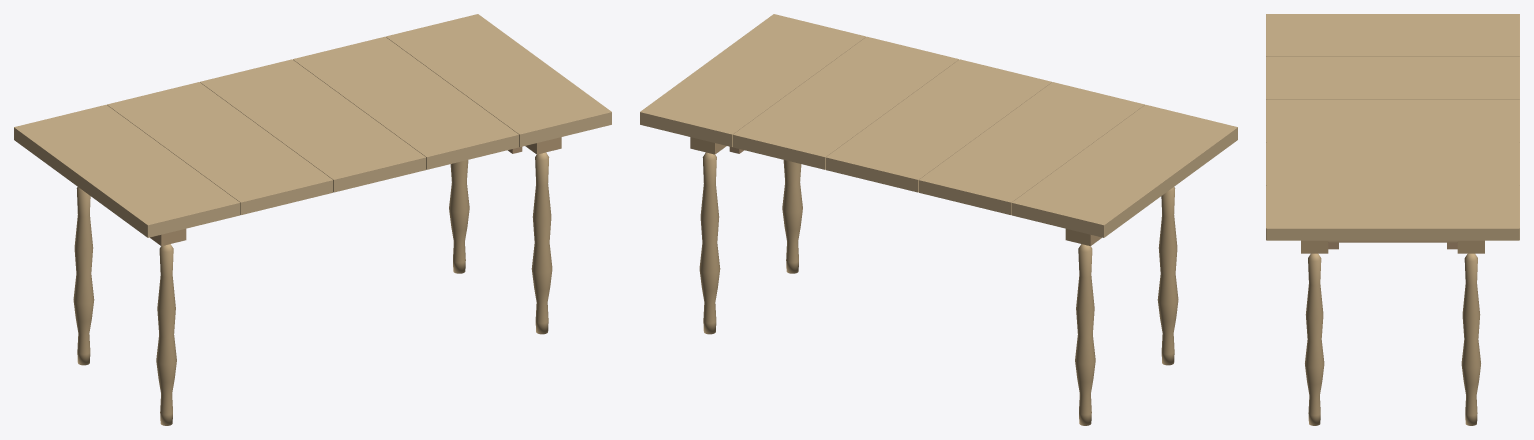
The model's file is turned_leg_apron_table_v1.glb.
3 renders of one model, left to right at view 1: azimuth 30°, elevation 25°; view 2: azimuth 150°, elevation 25°; view 3: azimuth 270°, elevation 25°, orthographic. The views are drawn at different scales.
Parts seen in each view (by area): view 1: tabletop_board_1, tabletop_board_3, tabletop_board_2, tabletop_board_4, tabletop_board_5, turned_leg_3, turned_leg_1, turned_leg_2, turned_leg_4; view 2: tabletop_board_1, tabletop_board_3, tabletop_board_2, tabletop_board_4, tabletop_board_5, turned_leg_4, turned_leg_2, turned_leg_1, turned_leg_3; view 3: tabletop_board_5, tabletop_board_4, tabletop_board_1, tabletop_board_2, tabletop_board_3, turned_leg_3, turned_leg_4, leg_top_block_3, leg_top_block_4, apron_right.
Part boxes in pixels (box(x1,y1,x2,y2)): tabletop_board_1: box(14, 104, 240, 237); tabletop_board_3: box(200, 59, 425, 192); tabletop_board_2: box(107, 82, 332, 214); tabletop_board_4: box(293, 36, 518, 169); tabletop_board_5: box(386, 14, 611, 146); turned_leg_3: box(531, 152, 552, 334); turned_leg_1: box(156, 244, 176, 425); turned_leg_2: box(73, 187, 94, 365); turned_leg_4: box(449, 160, 469, 273); tabletop_board_1: box(1011, 104, 1237, 237); tabletop_board_3: box(826, 59, 1051, 192); tabletop_board_2: box(919, 82, 1144, 214); tabletop_board_4: box(733, 36, 958, 169); tabletop_board_5: box(640, 14, 865, 146); turned_leg_4: box(699, 152, 720, 334); turned_leg_2: box(1075, 244, 1095, 425); turned_leg_1: box(1157, 187, 1178, 365); turned_leg_3: box(782, 160, 802, 273); tabletop_board_5: box(1266, 185, 1519, 240); tabletop_board_4: box(1266, 142, 1519, 185); tabletop_board_1: box(1266, 14, 1519, 56); tabletop_board_2: box(1266, 57, 1519, 99); tabletop_board_3: box(1266, 100, 1519, 142); turned_leg_3: box(1305, 253, 1324, 425); turned_leg_4: box(1461, 253, 1480, 425); leg_top_block_3: box(1301, 240, 1328, 253); leg_top_block_4: box(1457, 240, 1484, 253); apron_right: box(1328, 240, 1457, 242).
Size of the model in its own units: 1.6 by 0.75 by 0.8.
